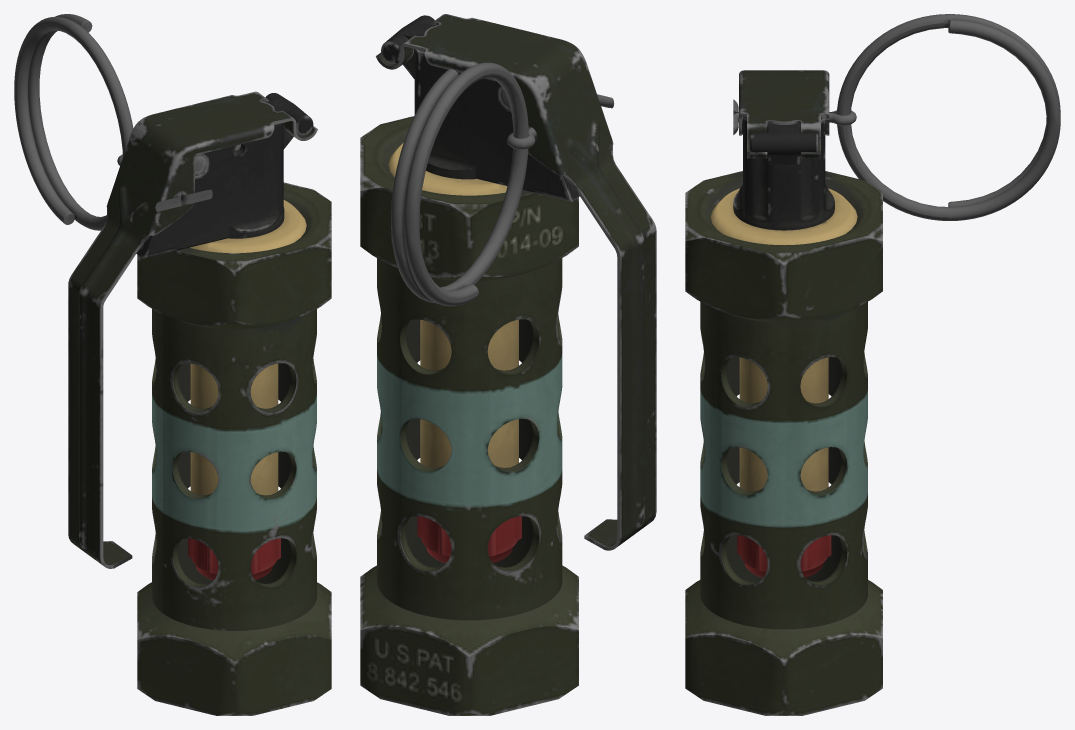
The model's file is weapon_gren_flash.glb.
The picture shows the model from 3 angles, left to right: view 1: azimuth 30°, elevation 25°; view 2: azimuth 150°, elevation 25°; view 3: azimuth 270°, elevation 25°; orthographic projection. The views are drawn at different scales.
Parts seen in each view (by area): view 1: weapons/models/grenade/flashbang/weapon_flashbang.vmdl_c.bod; view 2: weapons/models/grenade/flashbang/weapon_flashbang.vmdl_c.bod; view 3: weapons/models/grenade/flashbang/weapon_flashbang.vmdl_c.bod.
Part boxes in pixels (box(x1,y1,x2,y2)): weapons/models/grenade/flashbang/weapon_flashbang.vmdl_c.bod: box(14, 14, 331, 715); weapons/models/grenade/flashbang/weapon_flashbang.vmdl_c.bod: box(360, 14, 656, 715); weapons/models/grenade/flashbang/weapon_flashbang.vmdl_c.bod: box(685, 14, 1060, 715).
Bounding box in the file's own units: 0.0657 × 0.1518 × 0.0835.
Materials: 1 (1 with a texture image).
